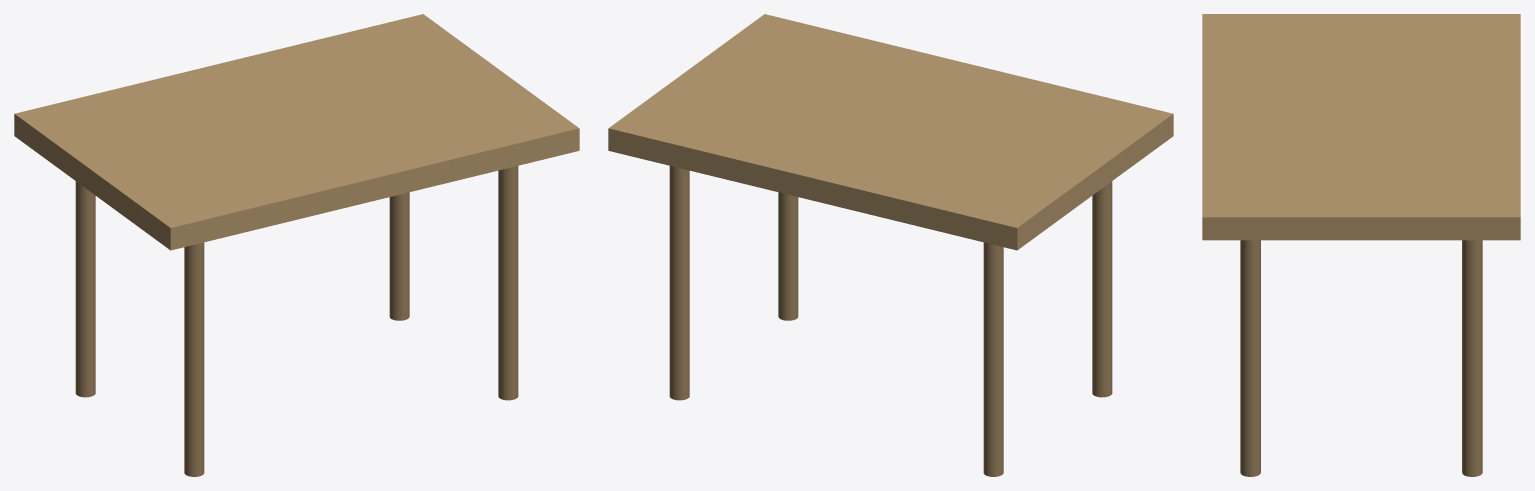
File: desk.fbx
3 renders of one model, left to right at view 1: azimuth 30°, elevation 25°; view 2: azimuth 150°, elevation 25°; view 3: azimuth 270°, elevation 25°, orthographic.
Parts seen in each view (by area): view 1: Cube, Cylinder, Cylinder.001, Cylinder.003, Cylinder.002; view 2: Cube, Cylinder.003, Cylinder.002, Cylinder, Cylinder.001; view 3: Cube, Cylinder.001, Cylinder.002.
Part boxes in pixels (x1,y1,x2,y2): Cube: (14,14,579,250); Cylinder: (184,242,204,476); Cylinder.001: (498,166,518,400); Cylinder.003: (75,181,95,397); Cylinder.002: (389,192,409,320); Cube: (608,14,1173,250); Cylinder.003: (983,242,1003,476); Cylinder.002: (669,166,689,400); Cylinder: (1092,181,1112,397); Cylinder.001: (778,192,798,320); Cube: (1202,14,1520,240); Cylinder.001: (1240,240,1260,476); Cylinder.002: (1462,240,1482,476).
Size of the model in its own units: 329 by 211 by 218.
